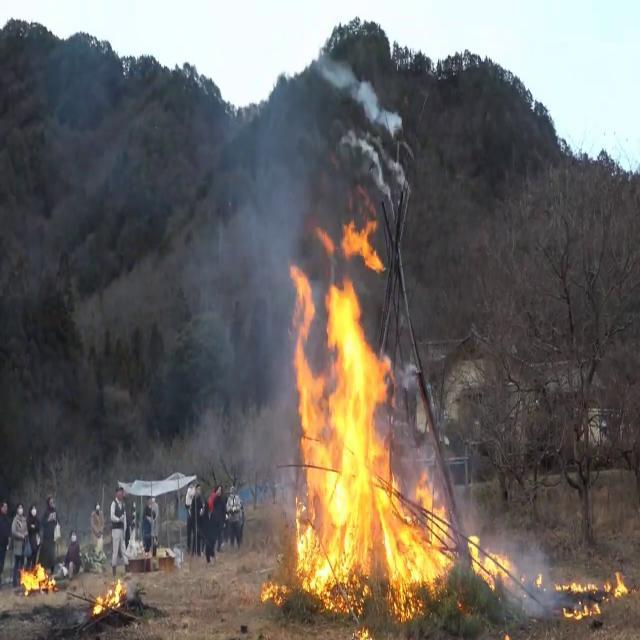Fire: (276, 254, 426, 626), (429, 496, 516, 594), (541, 568, 629, 622), (92, 574, 130, 616), (17, 557, 56, 595)
Smoke: (217, 104, 332, 437), (334, 58, 399, 200)
